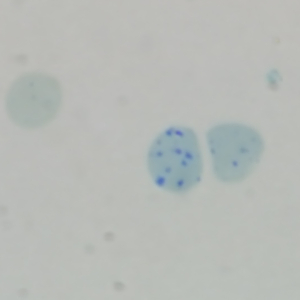aggregate reticulocyte: (145, 124, 205, 195)
punctate reticulocyte: (203, 120, 265, 184), (2, 71, 64, 130)
